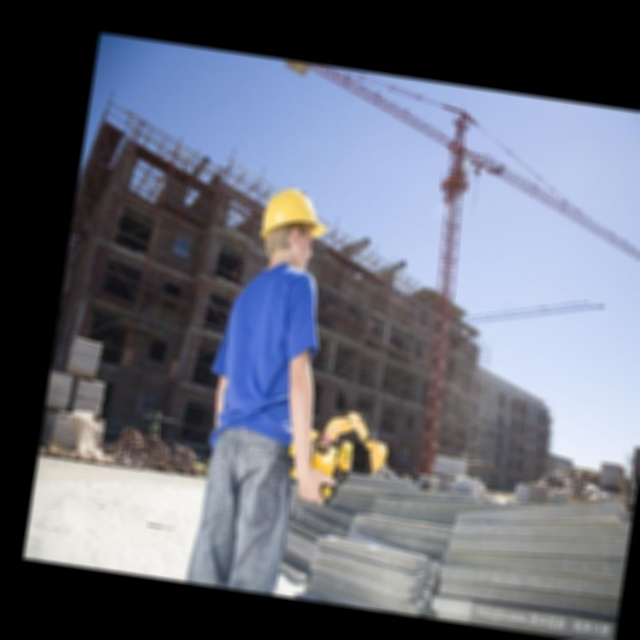Con_Casco: (256, 186, 324, 269)
Sin_Chaleco: (203, 256, 325, 460)
